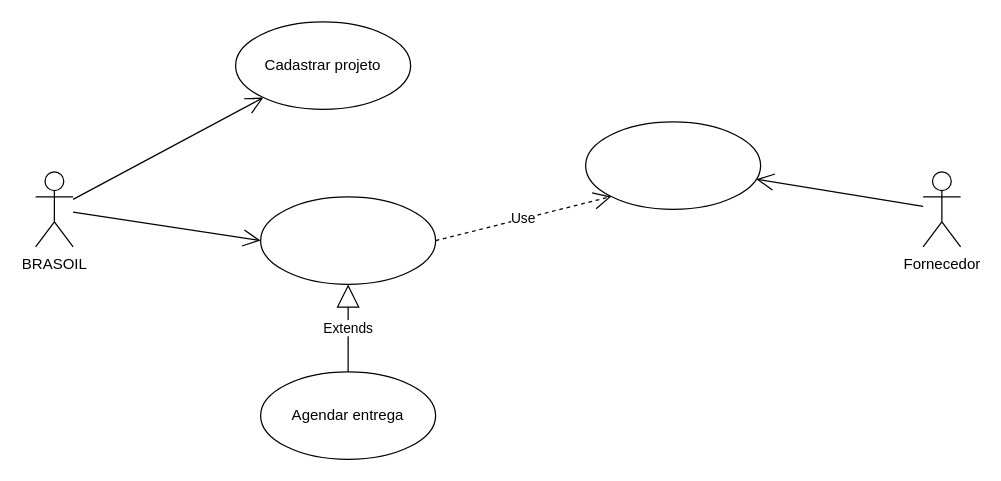
Image size: 1001x481. Some labels were removed from this diagram. Here are the shapes that lost their labels. From the top down, the centre of each, then its label:
the point at 672,165: Colocar proposta
the point at 347,240: Revisar proposta
